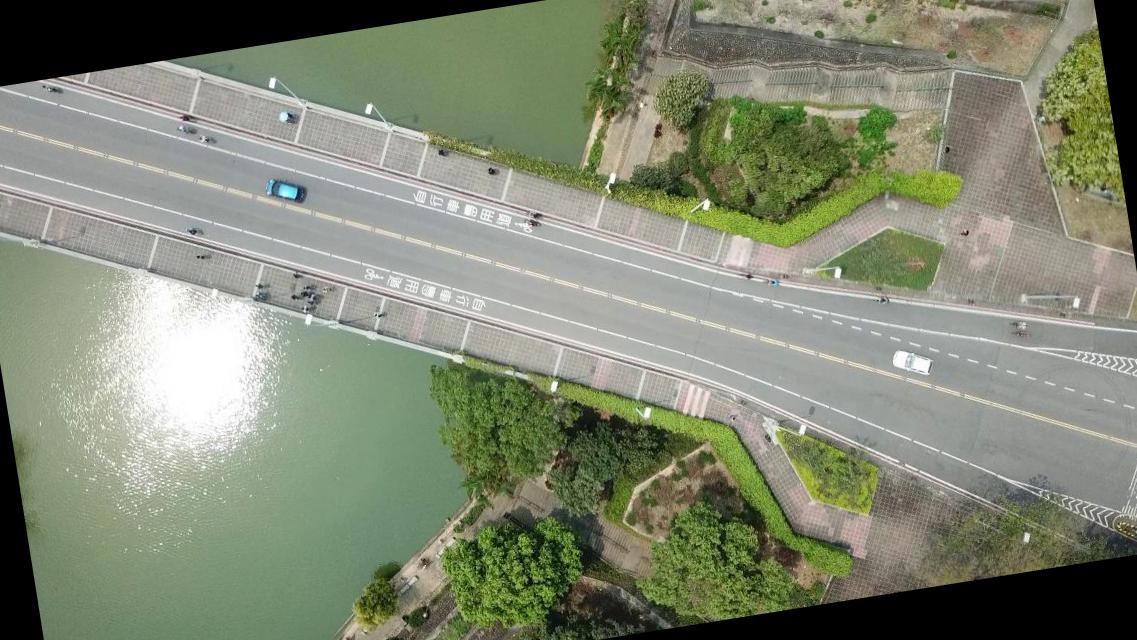vehicle: (891, 344, 936, 381), (264, 174, 308, 208)
